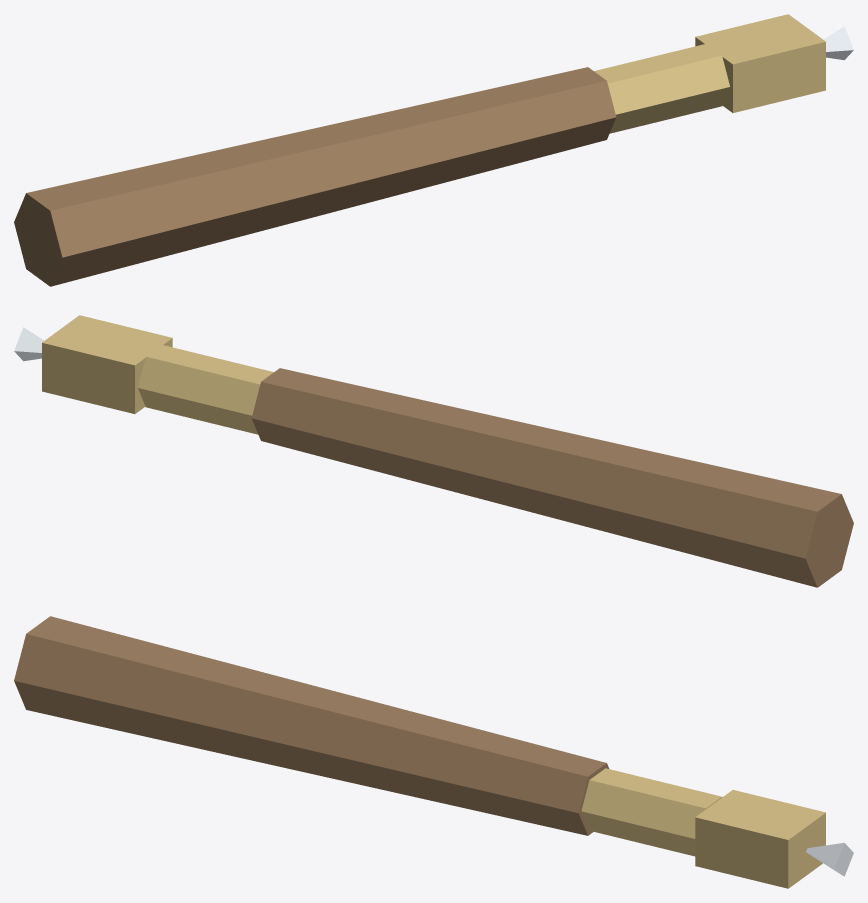
File: prop-diamond-point-cutter.fbx
3 views of the same model, one above another, from view 1: azimuth 30°, elevation 25°; view 2: azimuth 150°, elevation 25°; view 3: azimuth 330°, elevation 25° (orthographic).
Visible parts, largest first — view 1: prop-diamond-point-cutter; view 2: prop-diamond-point-cutter; view 3: prop-diamond-point-cutter.
Boxes of the visible parts, <box> form: prop-diamond-point-cutter: <box>14,14,853,286</box>; prop-diamond-point-cutter: <box>14,315,853,587</box>; prop-diamond-point-cutter: <box>14,616,853,888</box>.
Bounding box in the file's own units: 17.3 × 1.56 × 1.8.
